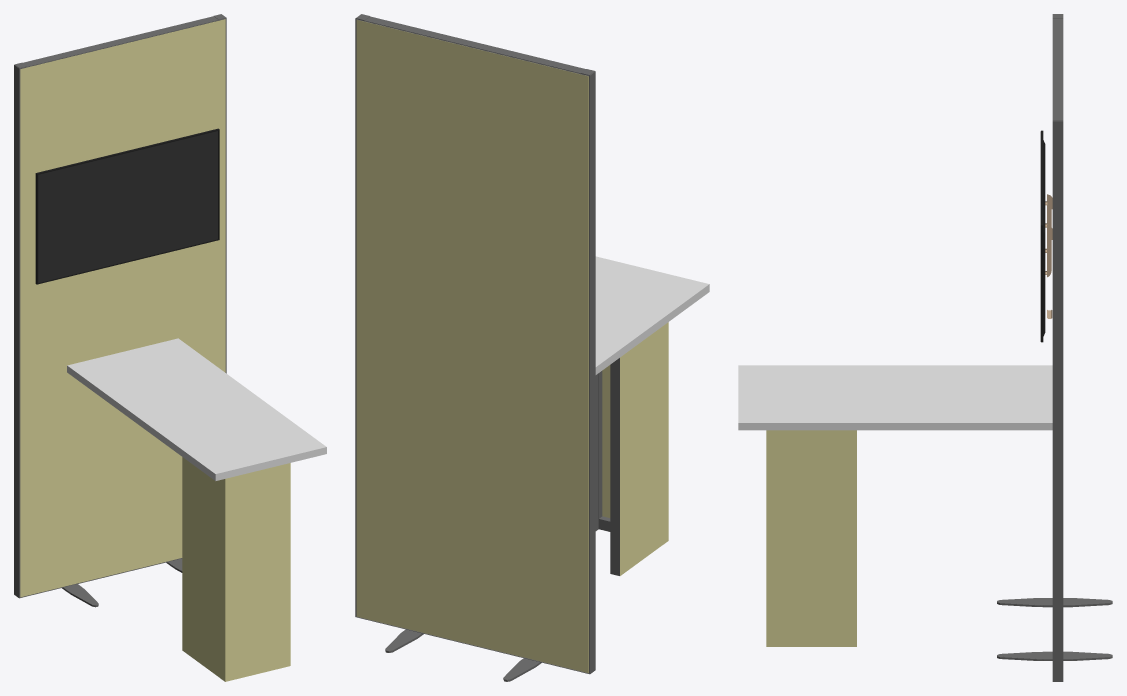
Rendered from Console Module TV.glb.
3 views of the same model, side by side, from view 1: azimuth 30°, elevation 25°; view 2: azimuth 150°, elevation 25°; view 3: azimuth 270°, elevation 25° (orthographic). The views are drawn at different scales.
Parts seen in each view (by area): view 1: Standard 38.001, Table.001, TV; view 2: toggle_back_panel.004, Table.001, Standard 38.001, toggle_feet_center.001; view 3: Table.001, Standard 38.001, toggle_feet_center.001, TV.
Part boxes in pixels (x1=…): Standard 38.001: x1=14, y1=14, x2=226, y2=598; Table.001: x1=67, y1=338, x2=326, y2=681; TV: x1=35, y1=128, x2=219, y2=284; toggle_back_panel.004: x1=356, y1=20, x2=588, y2=673; Table.001: x1=595, y1=256, x2=709, y2=575; Standard 38.001: x1=355, y1=14, x2=595, y2=674; toggle_feet_center.001: x1=385, y1=629, x2=541, y2=681; Table.001: x1=738, y1=365, x2=1052, y2=646; Standard 38.001: x1=1052, y1=14, x2=1063, y2=681; toggle_feet_center.001: x1=1003, y1=598, x2=1112, y2=660; TV: x1=1040, y1=130, x2=1045, y2=342.
Size of the model in its own units: 0.969 by 2.37 by 1.43.
5 materials, 1 textured.
